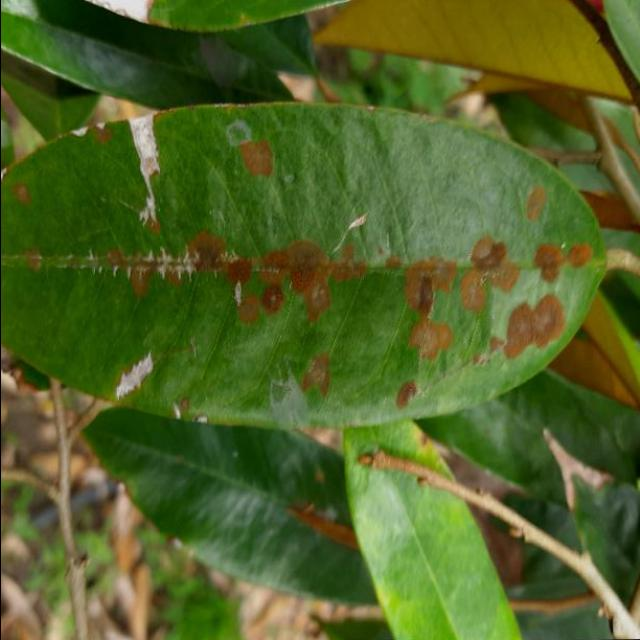Algal Leaf Spot: (0, 87, 622, 445)
